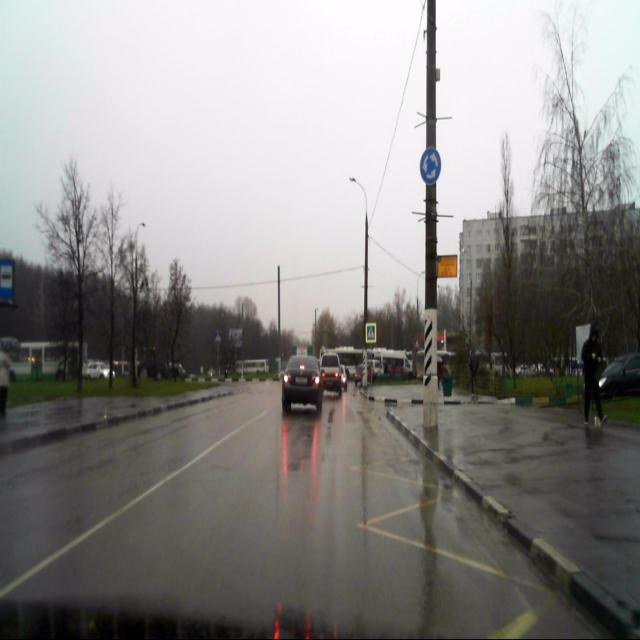road sign: (0, 260, 14, 300), (366, 323, 376, 341)
